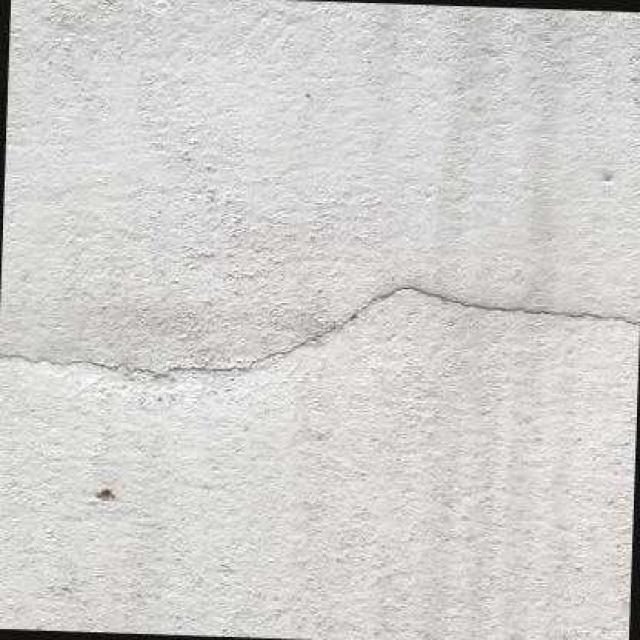D00: (0, 286, 640, 374)
